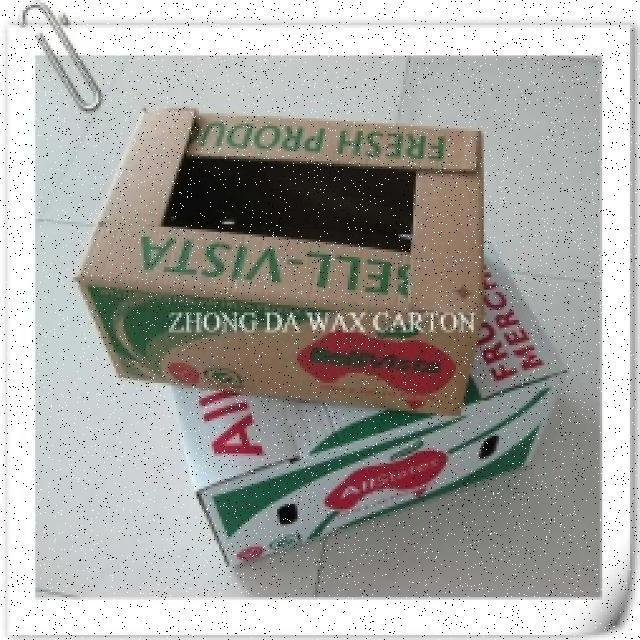box: (88, 100, 484, 390), (146, 314, 594, 550)
